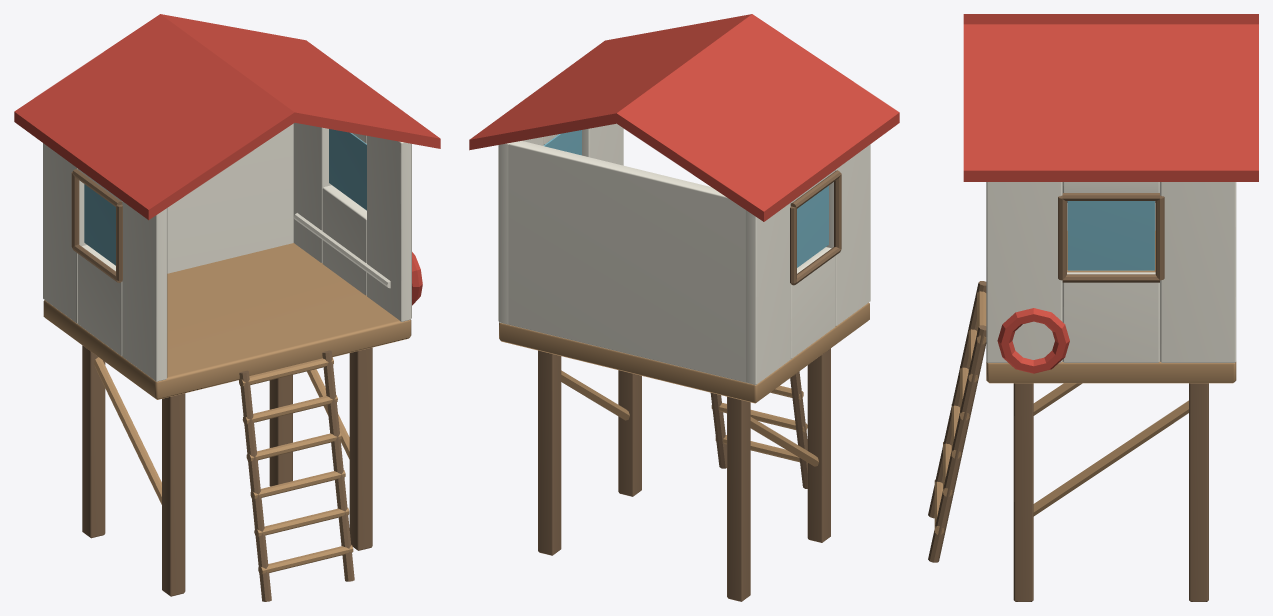
Rendered from casasalvavidas.fbx.
3 views of the same model, side by side, from view 1: azimuth 30°, elevation 25°; view 2: azimuth 150°, elevation 25°; view 3: azimuth 270°, elevation 25° (orthographic). The views are drawn at different scales.
Parts seen in each view (by area): view 1: Faldón izquierdo del techo, Plataforma, Faldón derecho del techo, Pared trasera, Pared lateral delantera.001, Pared lateral delantera, Pared lateral trasera, Pilote, Pilote.002, Pilote.001, Pared lateral trasera.001, Pared debajo de ventana.001 (+16 smaller); view 2: Pared trasera, Faldón izquierdo del techo, Faldón derecho del techo, Pared lateral trasera, Plataforma, Pared lateral delantera, Pilote.001, Pilote.003, Pilote, Pared debajo de ventana, Pilote.002, Pared lateral trasera.001 (+8 smaller); view 3: Faldón derecho del techo, Pared lateral trasera.001, Pared lateral delantera.001, Pared debajo de ventana.001, Vidrio ventana.001, Plataforma, Pilote.002, Pilote.003, Faldón izquierdo del techo, Larguero escalera.001, Salvavidas, Refuerzo bajo plataforma.001 (+7 smaller).
Boxes of the visible parts, box(x1,y1,x2,y2) form: Faldón izquierdo del techo: box(14, 14, 294, 220); Plataforma: box(43, 243, 411, 399); Faldón derecho del techo: box(161, 14, 440, 148); Pared trasera: box(167, 123, 293, 273); Pared lateral delantera.001: box(367, 136, 411, 321); Pared lateral delantera: box(122, 201, 167, 381); Pared lateral trasera: box(43, 143, 86, 323); Pilote: box(162, 393, 185, 596); Pilote.002: box(349, 347, 372, 550); Pilote.001: box(82, 345, 105, 538); Pared lateral trasera.001: box(293, 123, 331, 262); Pared debajo de ventana.001: box(322, 185, 366, 295); Pared trasera: box(508, 141, 745, 382); Faldón izquierdo del techo: box(616, 14, 899, 221); Faldón derecho del techo: box(469, 14, 751, 150); Pared lateral trasera: box(745, 203, 790, 385); Plataforma: box(499, 302, 869, 403); Pared lateral delantera: box(826, 144, 870, 326); Pilote.001: box(727, 396, 750, 601); Pilote.003: box(538, 350, 561, 555); Pilote: box(807, 348, 830, 542); Pared debajo de ventana: box(790, 247, 835, 359); Pilote.002: box(618, 370, 641, 496); Pared lateral trasera.001: box(498, 137, 543, 324); Faldón derecho del techo: box(963, 24, 1258, 181); Pared lateral trasera.001: box(1160, 182, 1236, 362); Pared lateral delantera.001: box(986, 182, 1062, 362); Pared debajo de ventana.001: box(1062, 272, 1159, 362); Vidrio ventana.001: box(1067, 201, 1154, 270); Plataforma: box(986, 230, 1236, 383); Pilote.002: box(1013, 383, 1033, 601); Pilote.003: box(1189, 383, 1208, 601); Faldón izquierdo del techo: box(963, 14, 1258, 24); Larguero escalera.001: box(928, 325, 986, 562); Salvavidas: box(997, 308, 1069, 373); Refuerzo bajo plataforma.001: box(1033, 400, 1188, 516).
Bounding box in the file's own units: 296 × 462 × 265.
